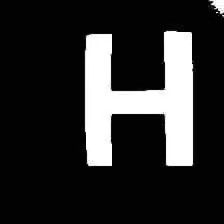LTR_H: (71, 13, 209, 179)
